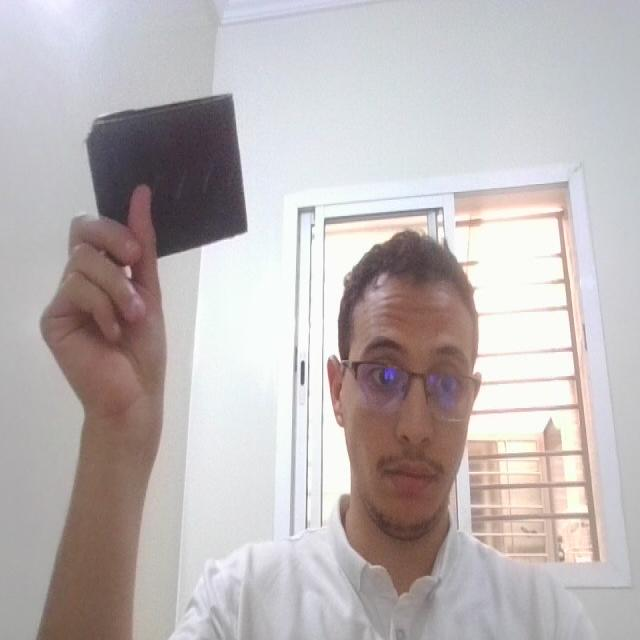wallet: (74, 82, 256, 267)
